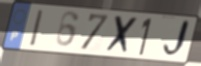1: (138, 17, 153, 57)
6: (54, 9, 81, 52)
7: (79, 12, 111, 53)
I: (29, 8, 46, 49)
J: (161, 18, 192, 61)
X: (103, 14, 140, 57)
